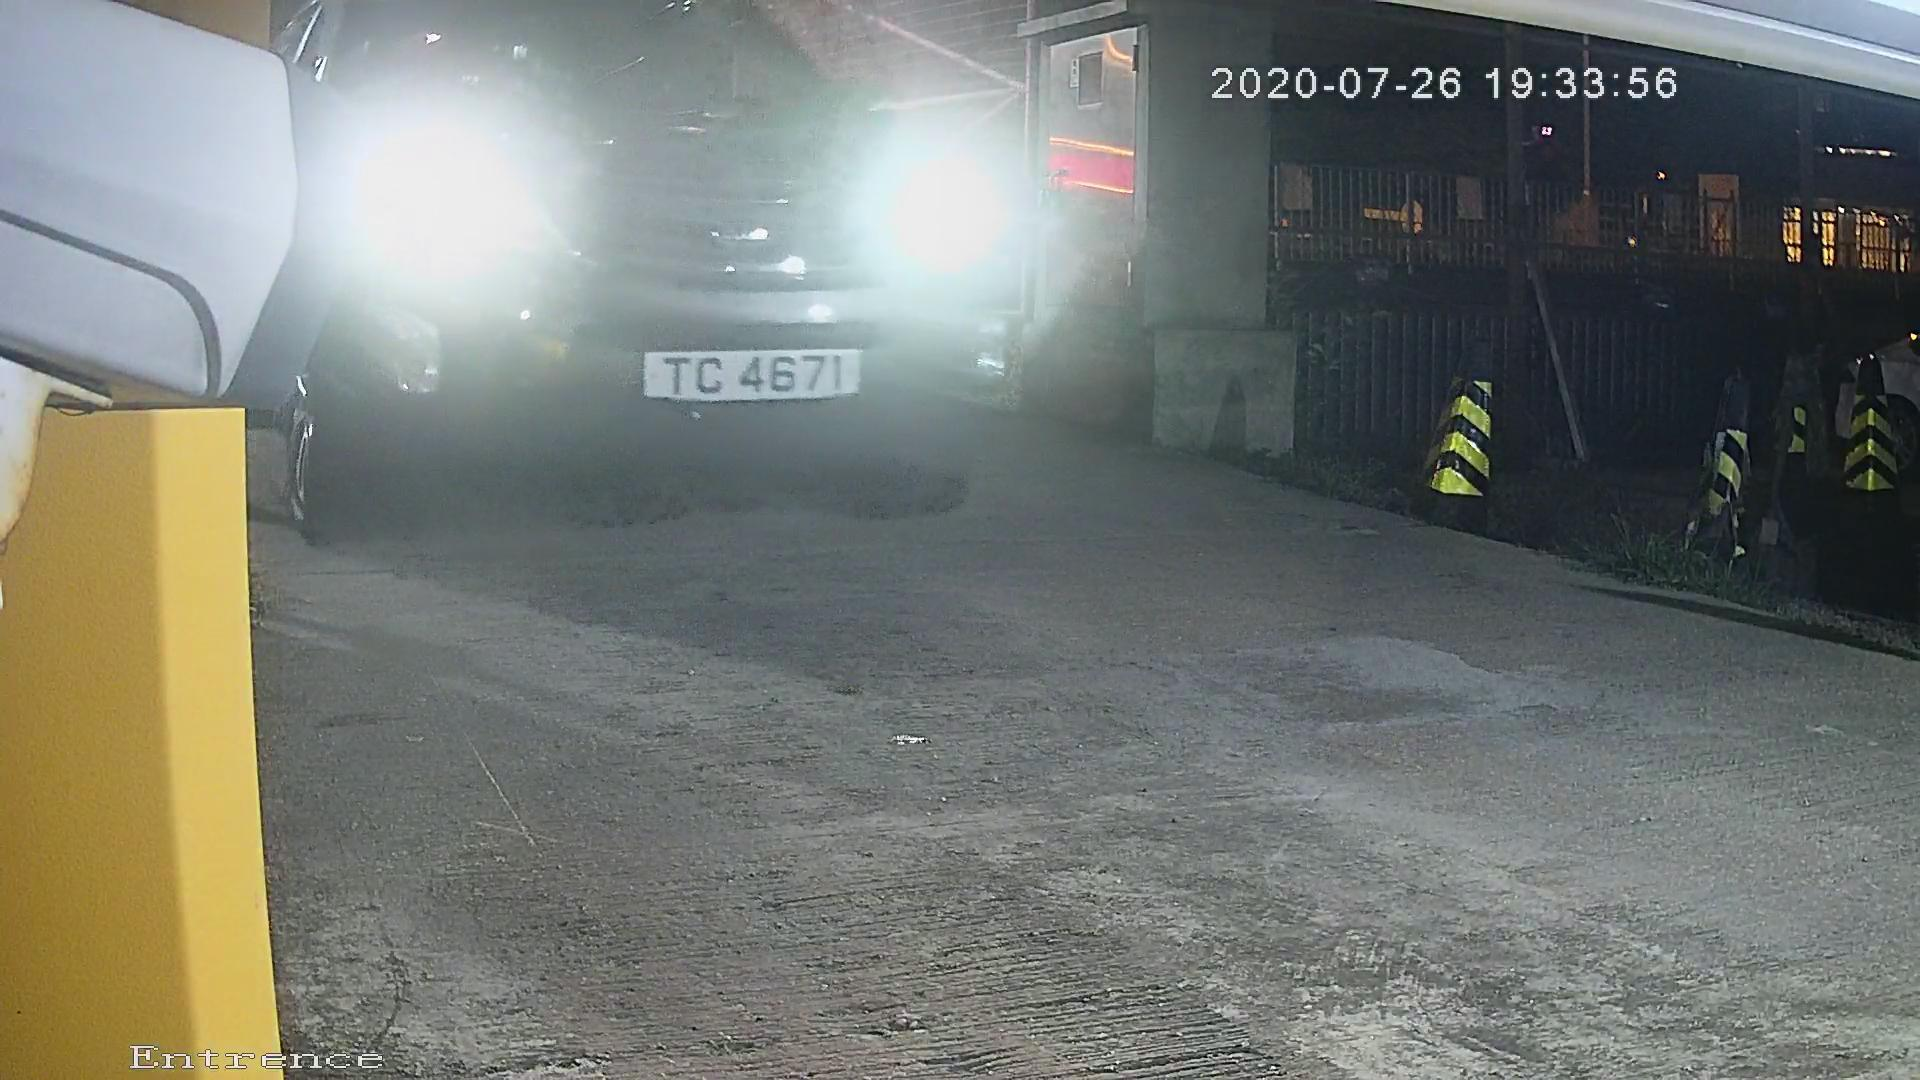License Plate: (583, 328, 892, 420)
